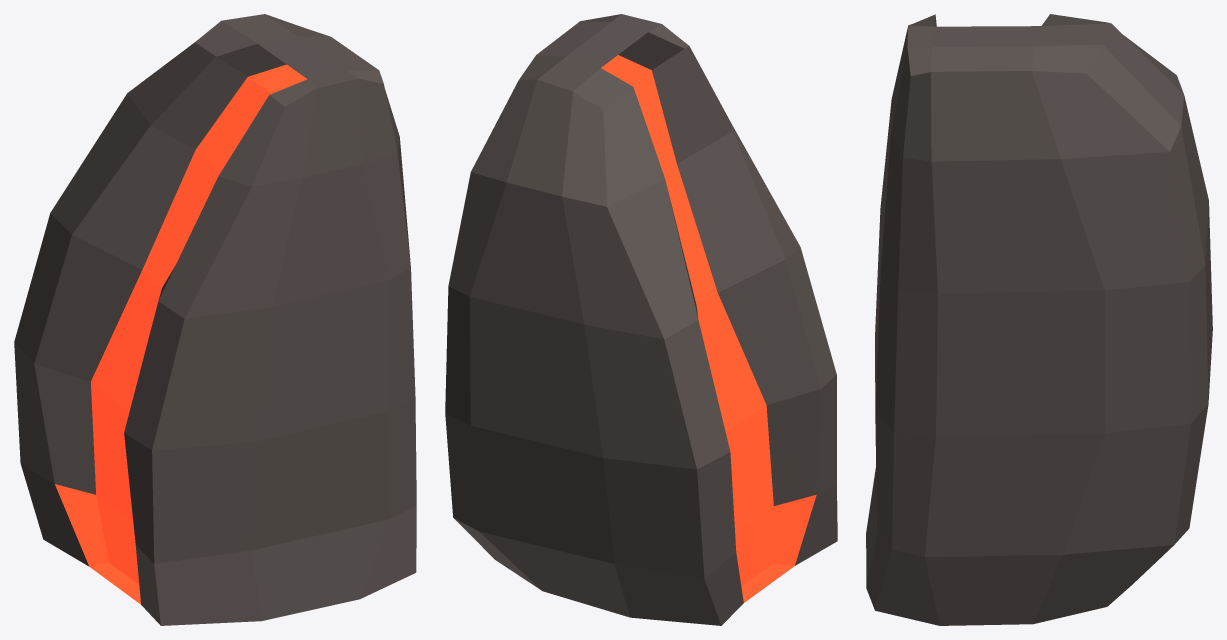
File: Rock Lava 1.fbx
3 views of the same model, side by side, from view 1: azimuth 30°, elevation 25°; view 2: azimuth 150°, elevation 25°; view 3: azimuth 270°, elevation 25° (orthographic). The views are drawn at different scales.
Visible parts, largest first — view 1: Rock Lava 1; view 2: Rock Lava 1; view 3: Rock Lava 1.
Boxes of the visible parts, x1=… form: Rock Lava 1: x1=14, y1=14, x2=416, y2=625; Rock Lava 1: x1=445, y1=14, x2=837, y2=625; Rock Lava 1: x1=866, y1=14, x2=1212, y2=625.
Bounding box in the file's own units: 135 × 243 × 132.
